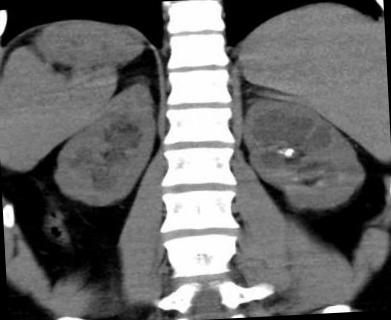Tas_Var: (284, 147, 295, 159)
